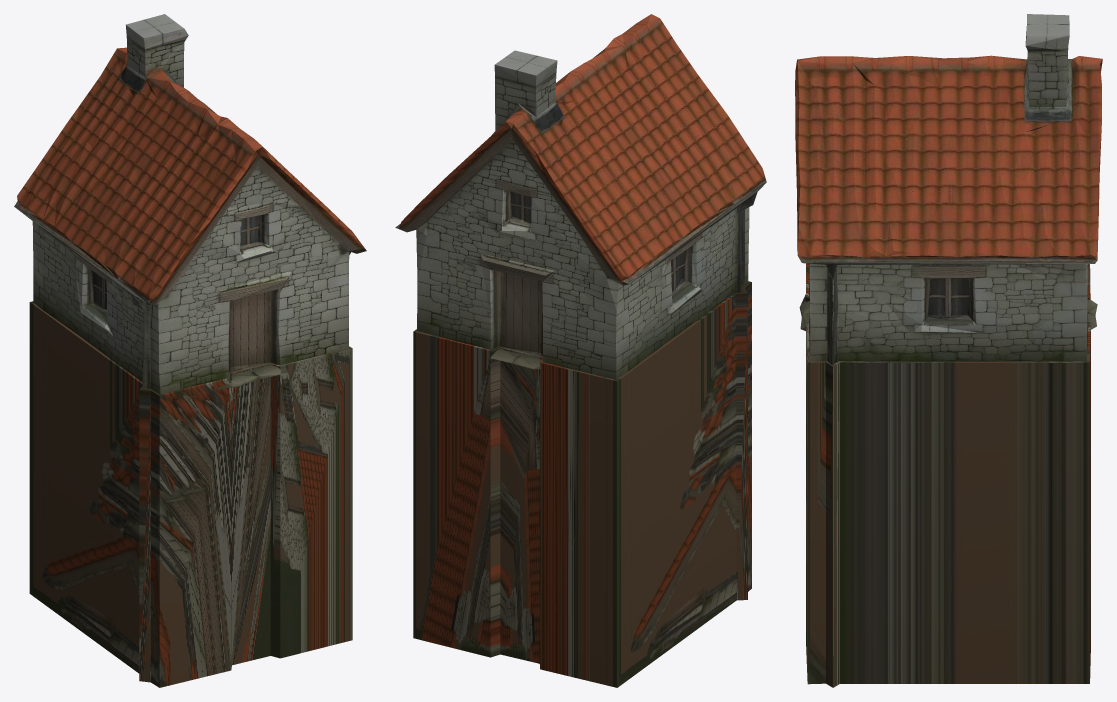
The model's file is cottage_c.glb.
The picture shows the model from 3 angles, left to right: view 1: azimuth 30°, elevation 25°; view 2: azimuth 150°, elevation 25°; view 3: azimuth 270°, elevation 25°; orthographic projection. The views are drawn at different scales.
Visible parts, largest first — view 1: cottage_c_export; view 2: cottage_c_export; view 3: cottage_c_export.
Boxes of the visible parts, box(x1,y1,x2,y2) form: cottage_c_export: box(14, 14, 366, 687); cottage_c_export: box(395, 14, 766, 687); cottage_c_export: box(795, 14, 1102, 687).
Bounding box in the file's own units: 14.86 × 35.1 × 16.
2 materials, 2 textured.
